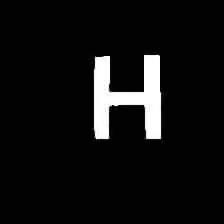LTR_H: (87, 47, 164, 143)
